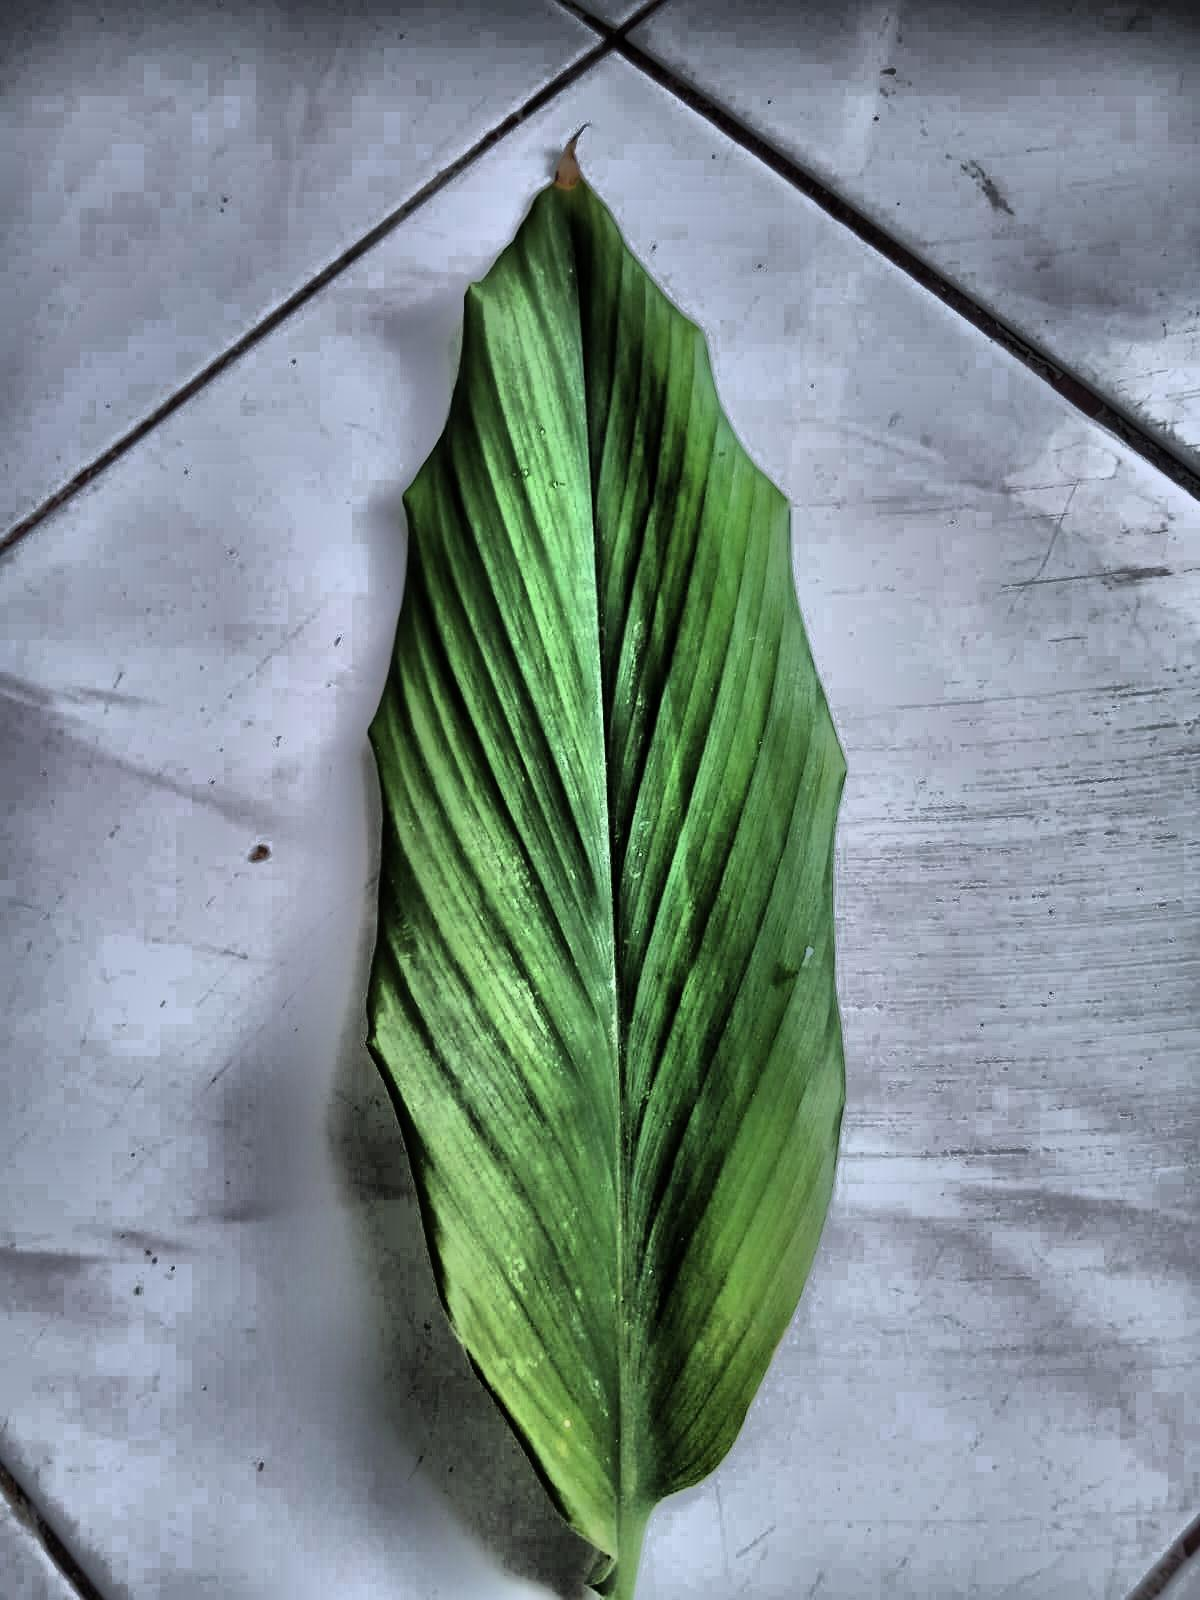daun kunyit: (368, 154, 845, 1599)
